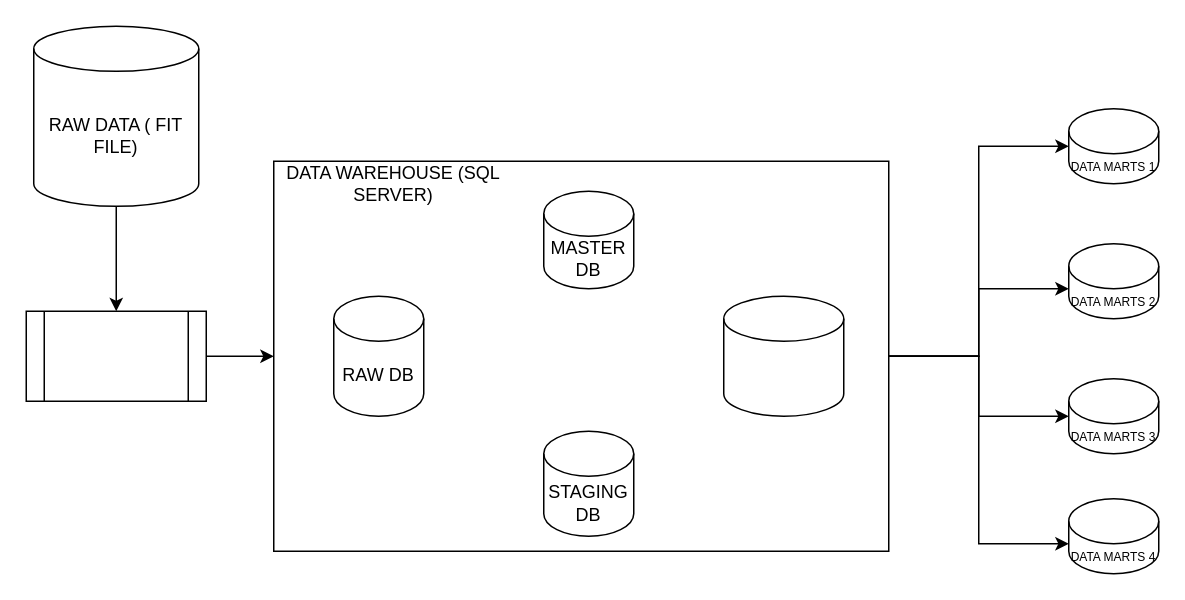
This 1185x600 diagram has some shape labels left out. Here are the shapes that lost their labels. From the top down, the centre of each, then its label:
[115,355]: ETL TOOL (Alteryx)
[783,355]: REPORTING DB
